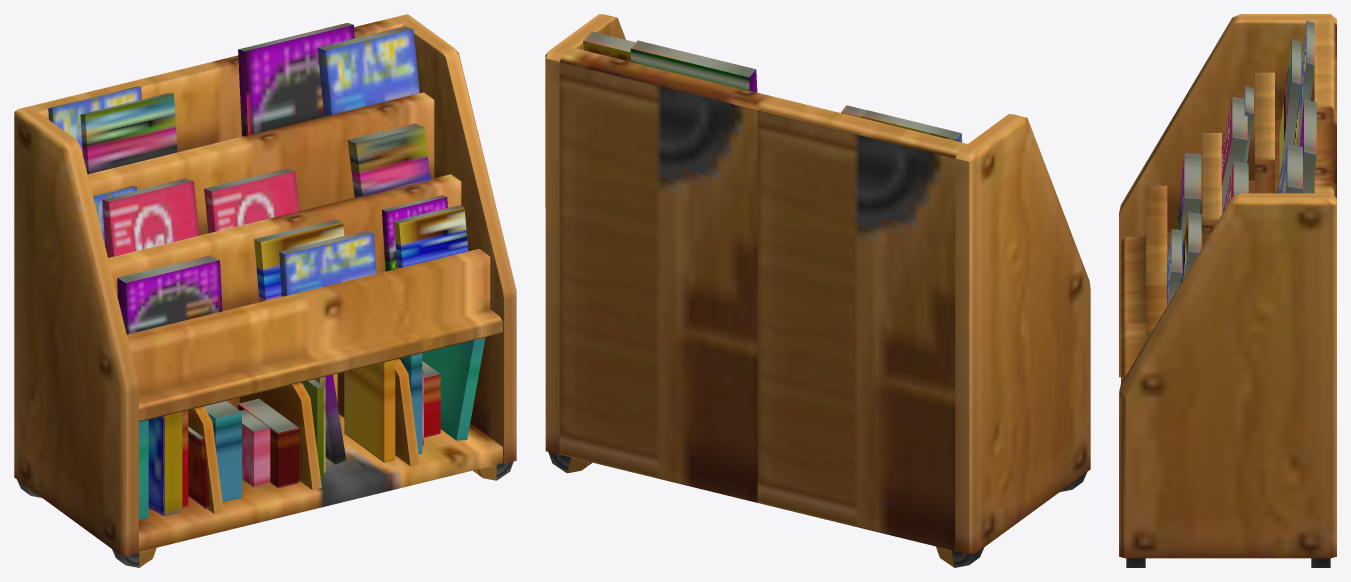
File: int_oth_magazinerackL.dae
3 renders of one model, left to right at view 1: azimuth 30°, elevation 25°; view 2: azimuth 150°, elevation 25°; view 3: azimuth 270°, elevation 25°, orthographic. The views are drawn at different scales.
Visible parts, largest first — view 1: int_oth_magazinerackL; view 2: int_oth_magazinerackL; view 3: int_oth_magazinerackL.
Boxes of the visible parts, bbox=[...] form: int_oth_magazinerackL: bbox=[14, 14, 516, 567]; int_oth_magazinerackL: bbox=[545, 14, 1090, 567]; int_oth_magazinerackL: bbox=[1119, 14, 1336, 567].
Bounding box in the file's own units: 50.97 × 49.23 × 24.83.
Materials: 2 (2 with a texture image).
